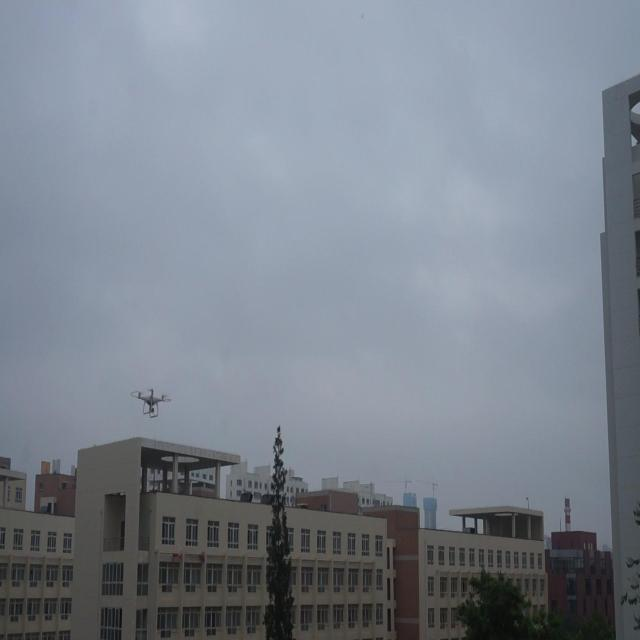drone: (130, 381, 174, 426)
